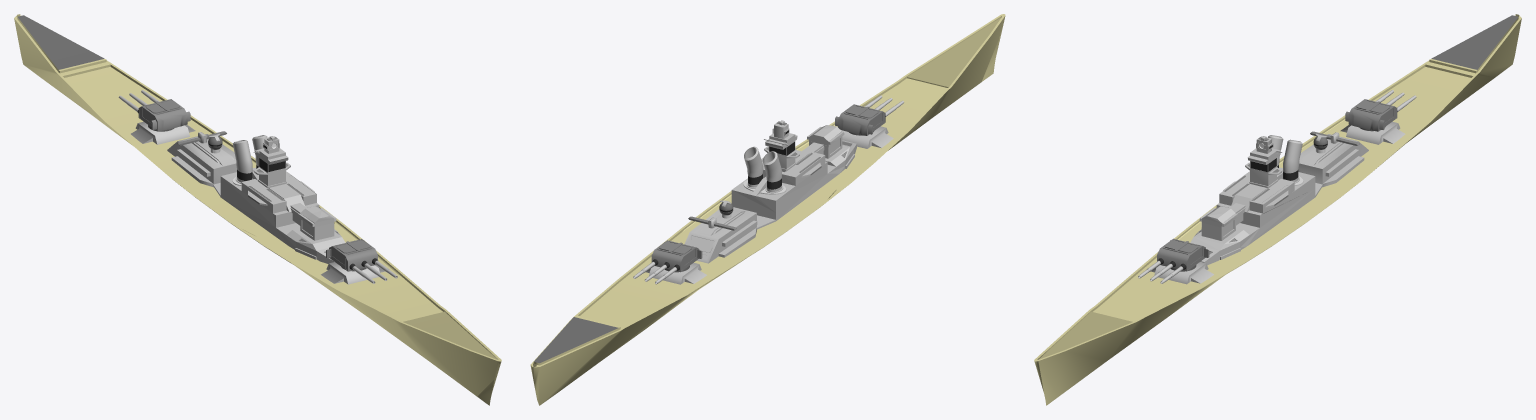
The model's file is BB1reworked.fbx.
The picture shows the model from 3 angles, left to right: view 1: azimuth 30°, elevation 25°; view 2: azimuth 150°, elevation 25°; view 3: azimuth 330°, elevation 25°; orthographic projection. The views are drawn at different scales.
Parts seen in each view (by area): view 1: Polygon, Cube, Cube_2, Cube_1, Base_2, Base, Cube_5, Cube_8, Oil_Tank_1; view 2: Polygon, Cube, Cube_2, Base, Cube_1, Base_2, Cube_8, Oil_Tank_1, Cube_5, Oil_Tank; view 3: Polygon, Cube, Cube_2, Cube_1, Base_2, Base, Cube_5, Cube_8, Oil_Tank.
Part boxes in pixels (x1,y1,x2,y2): Polygon: [14, 14, 501, 405]; Cube: [213, 167, 345, 263]; Cube_2: [167, 134, 236, 187]; Cube_1: [253, 136, 290, 188]; Base_2: [138, 99, 190, 131]; Base: [326, 239, 377, 271]; Cube_5: [131, 121, 195, 144]; Cube_8: [321, 262, 384, 284]; Oil_Tank_1: [233, 140, 252, 183]; Polygon: [530, 14, 1005, 405]; Cube: [731, 125, 856, 229]; Cube_2: [684, 207, 757, 263]; Base: [835, 104, 885, 135]; Cube_1: [764, 120, 799, 171]; Base_2: [651, 240, 702, 272]; Cube_8: [841, 126, 893, 148]; Oil_Tank_1: [762, 151, 783, 193]; Cube_5: [645, 263, 706, 284]; Oil_Tank: [744, 146, 763, 188]; Polygon: [1034, 14, 1521, 405]; Cube: [1190, 167, 1322, 265]; Cube_2: [1298, 134, 1368, 187]; Cube_1: [1245, 136, 1282, 188]; Base_2: [1345, 99, 1397, 131]; Base: [1157, 238, 1209, 271]; Cube_5: [1340, 121, 1405, 144]; Cube_8: [1151, 262, 1213, 284]; Oil_Tank: [1283, 139, 1302, 183].
Bounding box in the file's own units: 574 × 712 × 5621.
